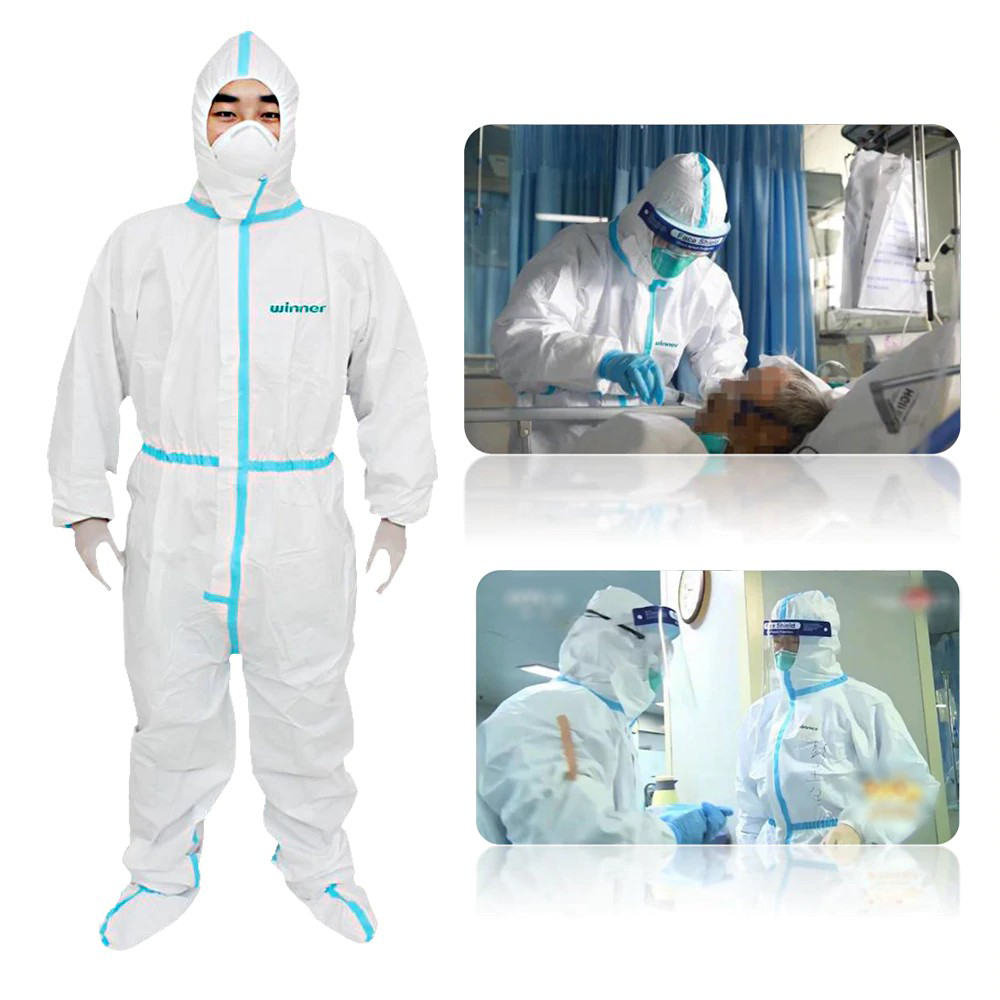Coverall: (49, 39, 439, 899), (501, 139, 746, 464), (731, 590, 933, 848), (478, 588, 672, 849)
Gloves: (591, 341, 668, 408), (664, 802, 737, 851)
Mask: (212, 122, 284, 182)
